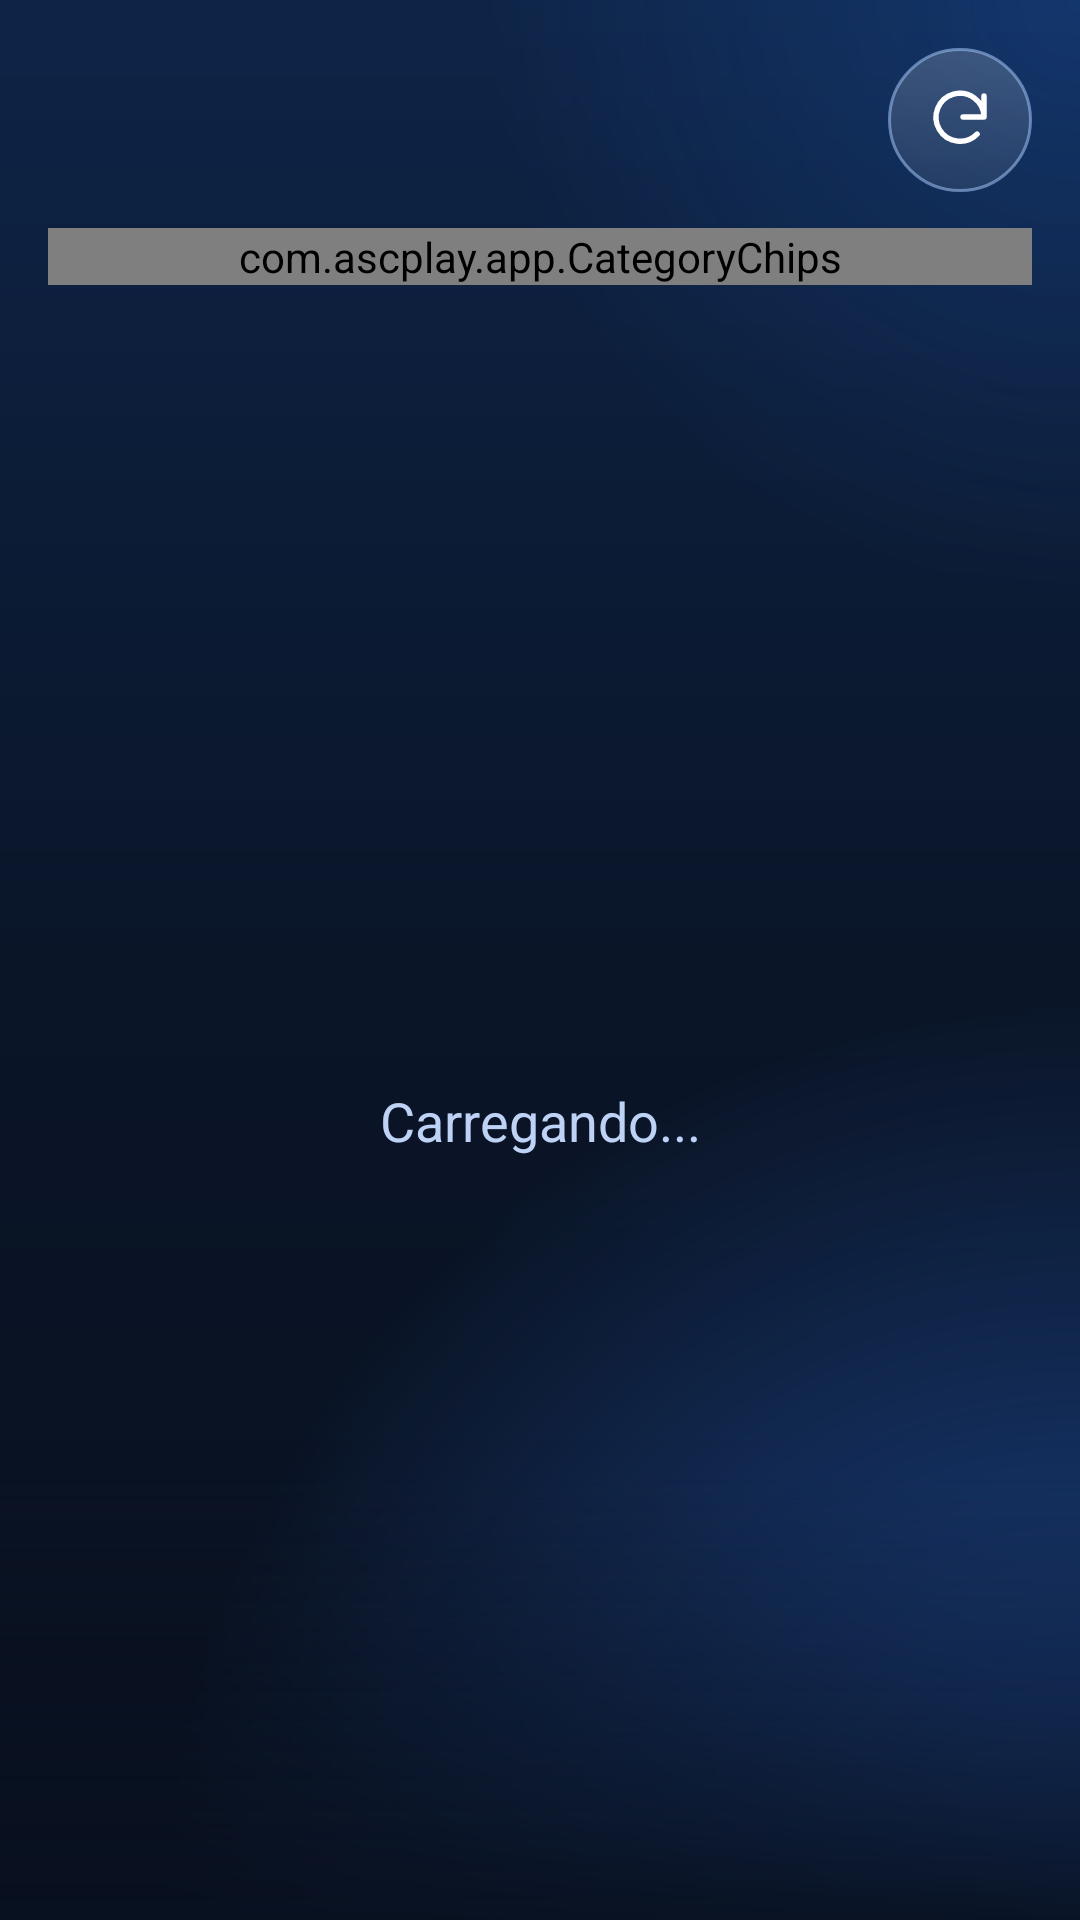

Locate icon controls on the screen. Image size 1080 × 1920, boxes as (x1, y1, x2, y2).
Atualizar lista: (888, 48, 1032, 192)
